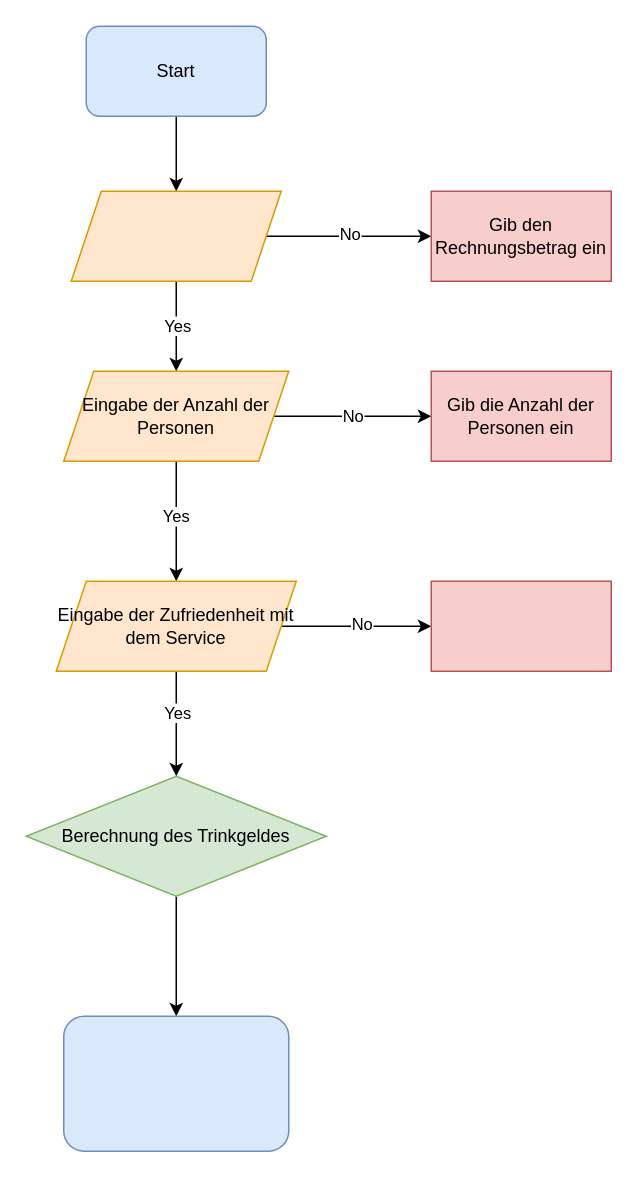
This 638x1178 diagram has some shape labels left out. The shapes that lost their labels are listed below. From the top down, each one's box as (x1, y1, x2, y2) in pixels, then its label:
(70, 190, 281, 281): Eingabe des Rechnungsbetrages
(430, 580, 611, 671): Wähle die Zufriedenheit aus
(62, 1015, 289, 1151): Anzeige von Trinkgeld, Gesamtbetrag und Betrag pro Person
